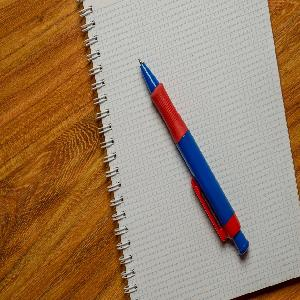pen: (135, 57, 252, 262)
